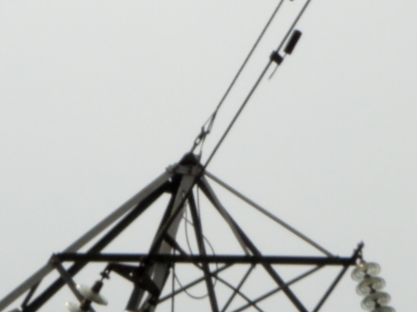damper_defect: (263, 27, 302, 82)
